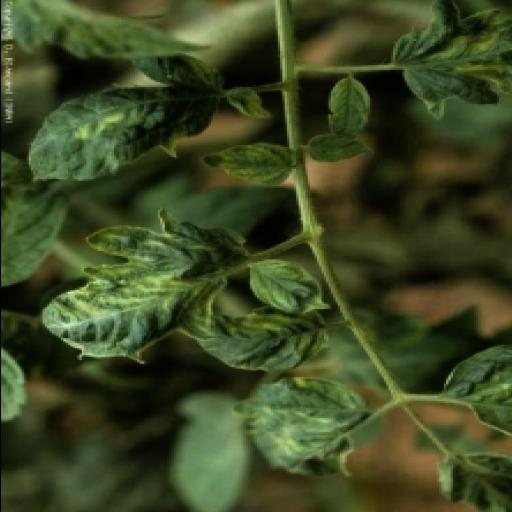disease_tomato: (39, 219, 251, 367), (24, 55, 222, 185)
